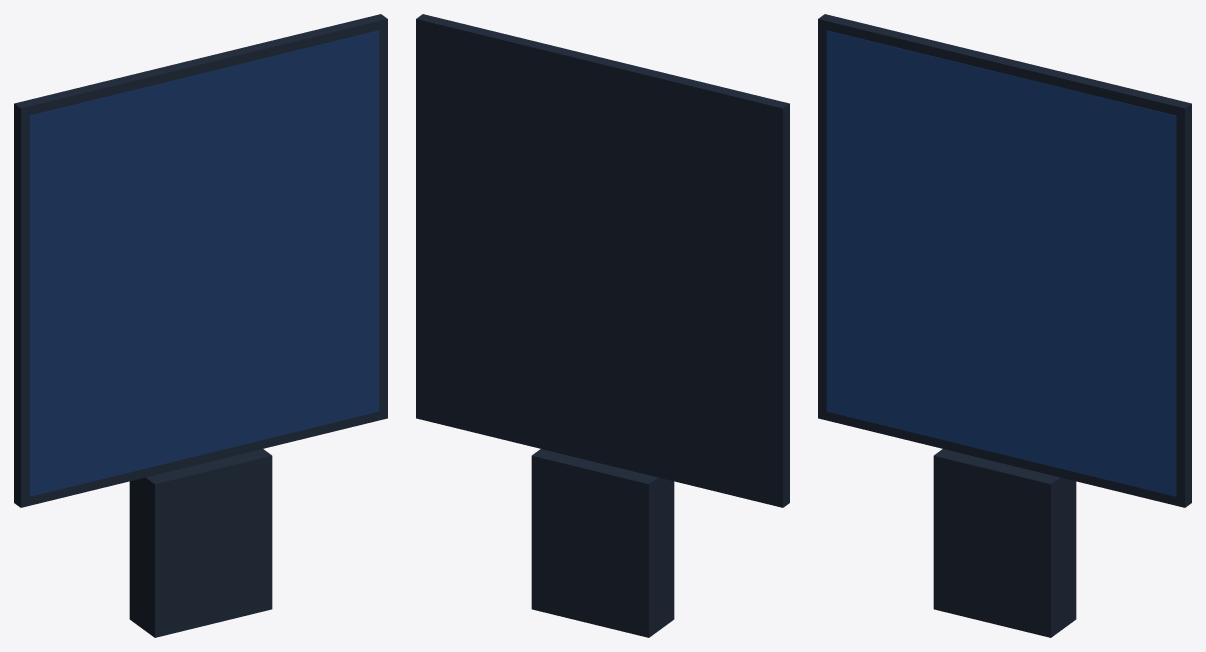
3 views of the same model, side by side, from view 1: azimuth 30°, elevation 25°; view 2: azimuth 150°, elevation 25°; view 3: azimuth 330°, elevation 25° (orthographic).
Size of the model in its own units: 1.25 by 1.8 by 0.15.
